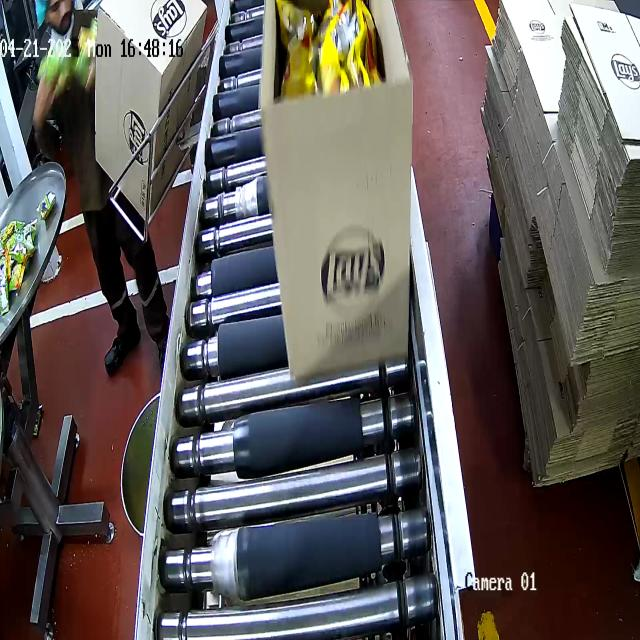SALTED: (276, 0, 386, 103)
